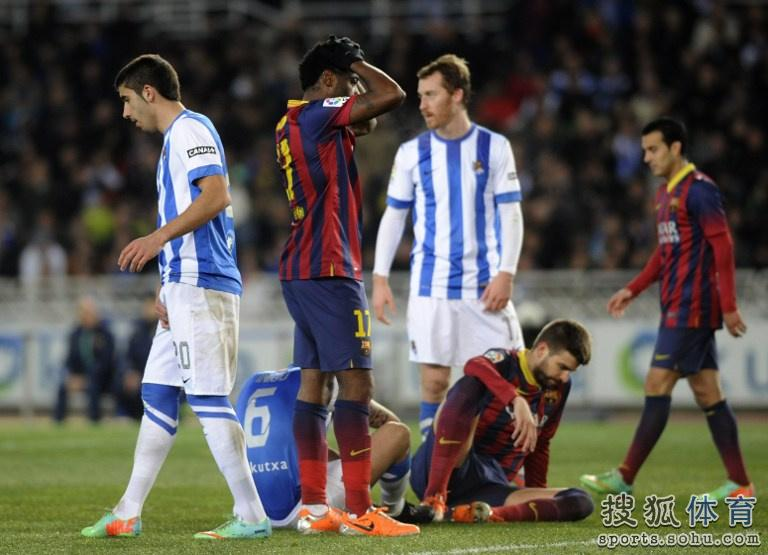down: (405, 312, 619, 534), (218, 315, 425, 522)
up: (58, 44, 285, 538), (239, 22, 426, 541), (378, 49, 549, 523), (572, 114, 753, 517)
